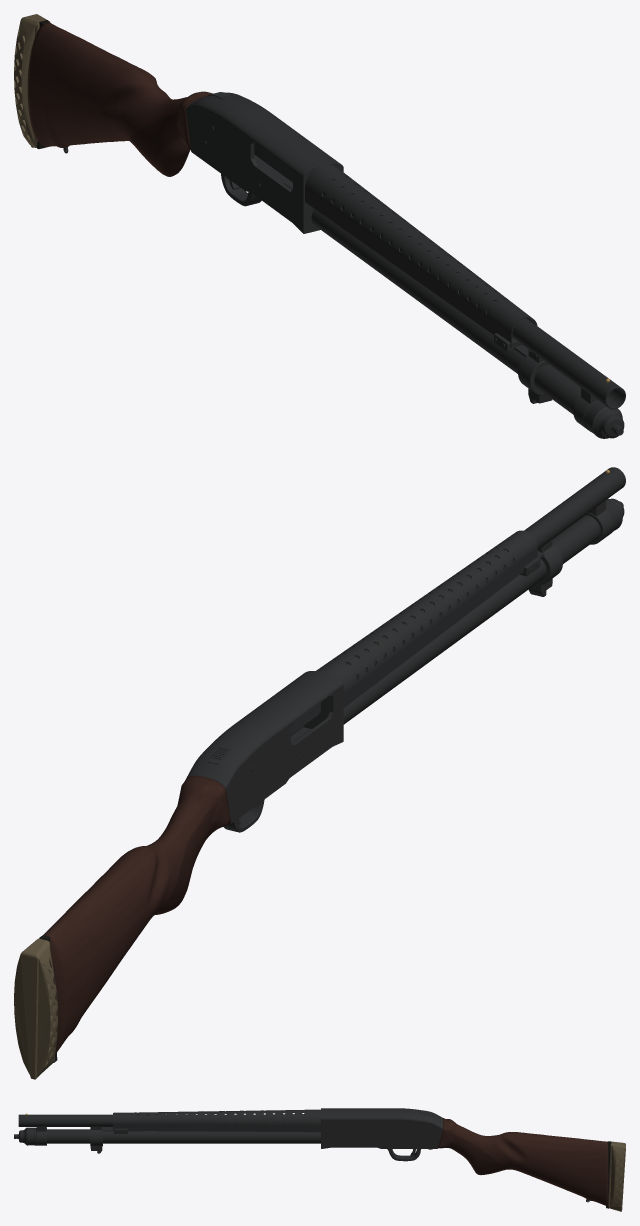
Rendered from SM_M590_Body.fbx.
The picture shows the model from 3 angles, top to bottom: view 1: azimuth 30°, elevation 25°; view 2: azimuth 150°, elevation 25°; view 3: azimuth 270°, elevation 25°; orthographic projection. The views are drawn at different scales.
Visible parts, largest first — view 1: SM_M590_Body; view 2: SM_M590_Body; view 3: SM_M590_Body.
Boxes of the visible parts, <box> form: SM_M590_Body: <box>14,14,625,438</box>; SM_M590_Body: <box>14,467,625,1079</box>; SM_M590_Body: <box>14,1108,625,1211</box>.
Bounding box in the file's own units: 4.76 × 104 × 18.92.
